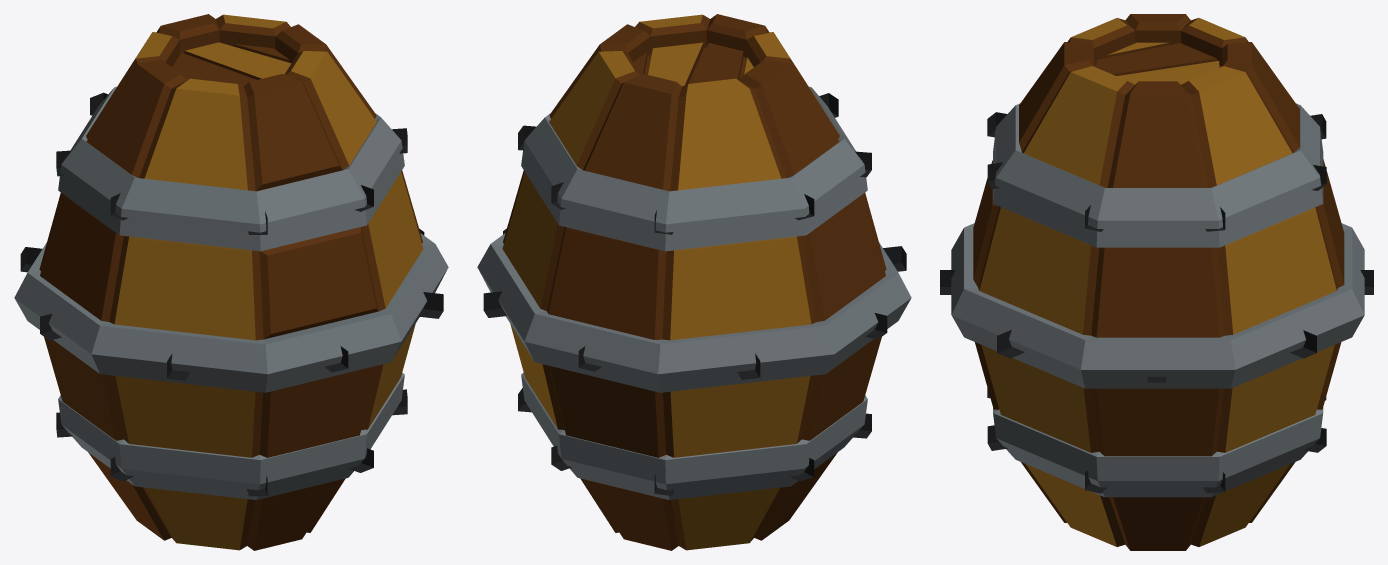
File: Barril.fbx
The picture shows the model from 3 angles, left to right: view 1: azimuth 30°, elevation 25°; view 2: azimuth 150°, elevation 25°; view 3: azimuth 270°, elevation 25°; orthographic projection.
Parts seen in each view (by area): view 1: Cube; view 2: Cube; view 3: Cube.
Part boxes in pixels (x1=…): Cube: x1=14, y1=14, x2=448, y2=550; Cube: x1=477, y1=14, x2=911, y2=550; Cube: x1=940, y1=14, x2=1373, y2=550.
Size of the model in its own units: 490 by 575 by 490.
1 material, 1 textured.
